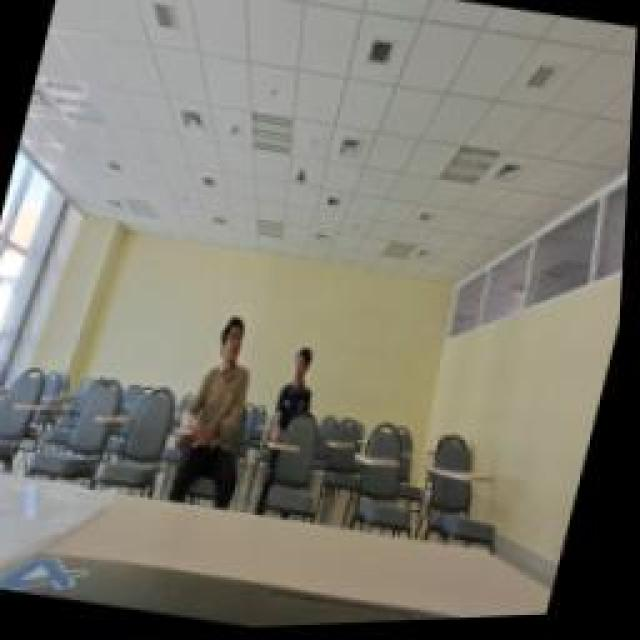study: (170, 305, 285, 515), (270, 342, 332, 448)
